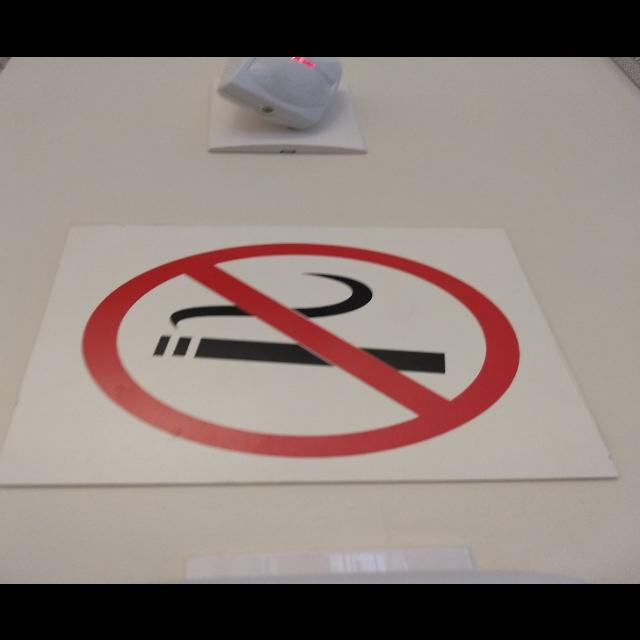cam hut thuoc: (83, 242, 519, 455)
